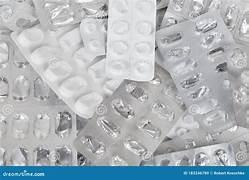pill_Strip: (0, 34, 85, 165), (75, 66, 183, 164), (11, 25, 121, 117), (156, 12, 234, 131), (207, 0, 248, 126), (0, 104, 83, 165), (210, 0, 248, 126), (0, 32, 57, 104), (216, 0, 248, 126), (105, 0, 155, 80), (147, 126, 248, 165), (150, 127, 248, 165), (162, 0, 248, 43), (153, 126, 247, 161), (154, 126, 247, 155), (33, 0, 106, 29), (176, 13, 231, 49), (96, 132, 156, 165), (155, 143, 235, 165), (98, 132, 150, 164), (228, 44, 248, 127), (74, 18, 105, 70), (74, 18, 105, 67), (33, 0, 83, 29), (208, 0, 246, 36), (161, 0, 211, 27), (0, 0, 37, 30), (225, 0, 248, 46), (80, 18, 105, 54), (161, 0, 194, 27), (167, 110, 199, 137), (168, 110, 199, 137), (167, 111, 199, 137), (168, 0, 211, 19), (164, 46, 198, 67), (72, 0, 107, 18), (164, 79, 185, 108), (230, 132, 248, 165), (160, 6, 184, 28), (160, 10, 184, 28), (0, 29, 10, 68), (167, 0, 187, 18), (85, 5, 107, 19), (74, 0, 106, 9), (122, 99, 134, 118), (156, 8, 166, 30), (155, 48, 167, 66), (169, 46, 188, 55), (157, 0, 169, 9), (0, 25, 10, 34), (0, 24, 7, 30), (115, 156, 120, 161), (116, 158, 118, 159)
